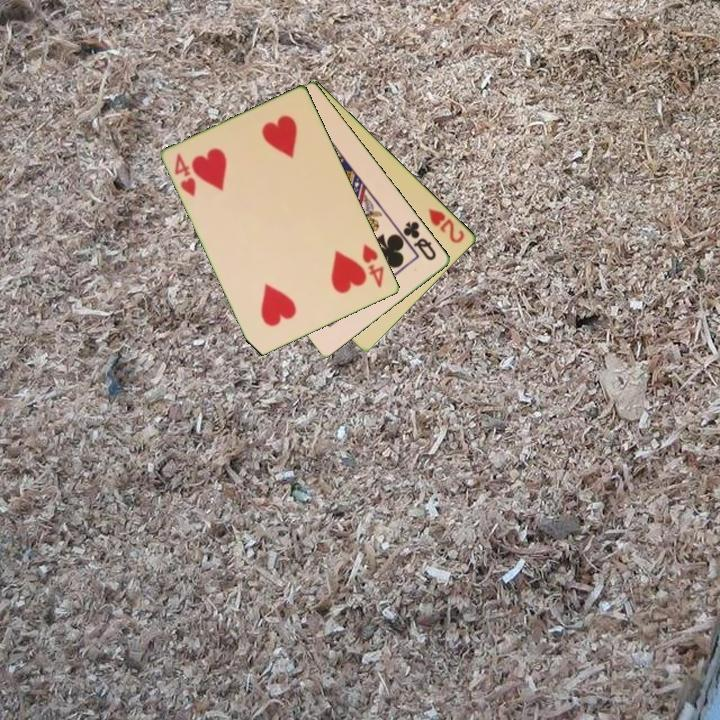2h: (425, 205, 468, 246)
4h: (359, 241, 387, 291), (171, 150, 199, 200)
Qc: (399, 218, 440, 264)
